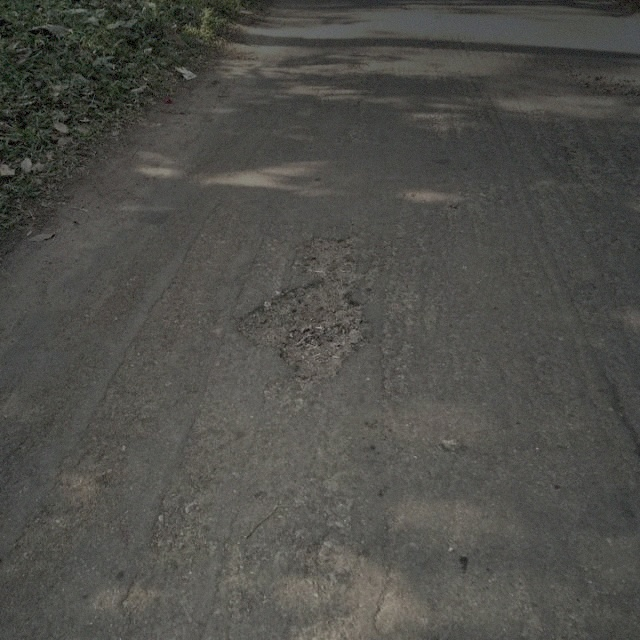pothole: (234, 234, 374, 386), (554, 60, 639, 102)
